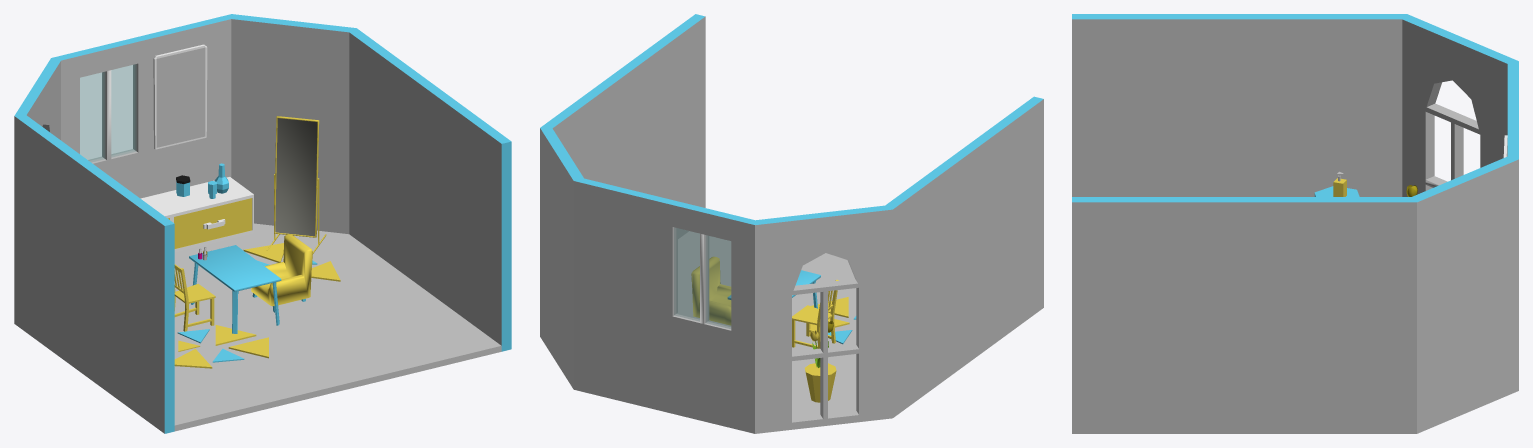
Rendered from sarıoda.obj.
3 views of the same model, side by side, from view 1: azimuth 30°, elevation 25°; view 2: azimuth 150°, elevation 25°; view 3: azimuth 270°, elevation 25° (orthographic). The views are drawn at different scales.
Parts seen in each view (by area): view 1: Cube.096_wall_yellow, Cube.097_wall_yellow, Cube.096_m_blue, Box009.008_m_ayna, Plane.005_tablo_sarı, Cube.098_m_cam, Leg_3.006_m_blue, cabinet.009_m_white, cabinet.009_m_yellow, Cube.099_m_yellow, Cube.100_m_yellow, Box009.008_m_yellow (+5 smaller); view 2: Cube.096_wall_yellow, Cube.097_wall_yellow, Cube.096_m_blue, Cube.098_m_cam, Cube.099_m_yellow, Cube.100_m_yellow, Cylinder.081_m_yellow; view 3: Cube.096_wall_yellow, Cube.096_m_blue.
Part boxes in pixels (x1=…): Cube.096_wall_yellow: x1=14, y1=19, x2=501, y2=433; Cube.097_wall_yellow: x1=174, y1=223, x2=501, y2=431; Cube.096_m_blue: x1=14, y1=14, x2=511, y2=433; Box009.008_m_ayna: x1=275, y1=118, x2=317, y2=236; Plane.005_tablo_sarı: x1=156, y1=47, x2=205, y2=147; Cube.098_m_cam: x1=80, y1=64, x2=136, y2=162; Leg_3.006_m_blue: x1=189, y1=245, x2=281, y2=333; cabinet.009_m_white: x1=140, y1=177, x2=253, y2=251; cabinet.009_m_yellow: x1=168, y1=198, x2=252, y2=248; Cube.099_m_yellow: x1=251, y1=234, x2=312, y2=306; Cube.100_m_yellow: x1=174, y1=264, x2=215, y2=331; Box009.008_m_yellow: x1=267, y1=116, x2=326, y2=254; Cube.096_wall_yellow: x1=540, y1=16, x2=1043, y2=433; Cube.097_wall_yellow: x1=678, y1=231, x2=856, y2=417; Cube.096_m_blue: x1=540, y1=14, x2=1043, y2=225; Cube.098_m_cam: x1=674, y1=227, x2=731, y2=328; Cube.099_m_yellow: x1=691, y1=256, x2=731, y2=325; Cube.100_m_yellow: x1=792, y1=279, x2=838, y2=348; Cylinder.081_m_yellow: x1=804, y1=363, x2=836, y2=402; Cube.096_wall_yellow: x1=1072, y1=19, x2=1518, y2=433; Cube.096_m_blue: x1=1072, y1=14, x2=1518, y2=202.
Size of the model in its own units: 68.08 by 38.99 by 68.21.
